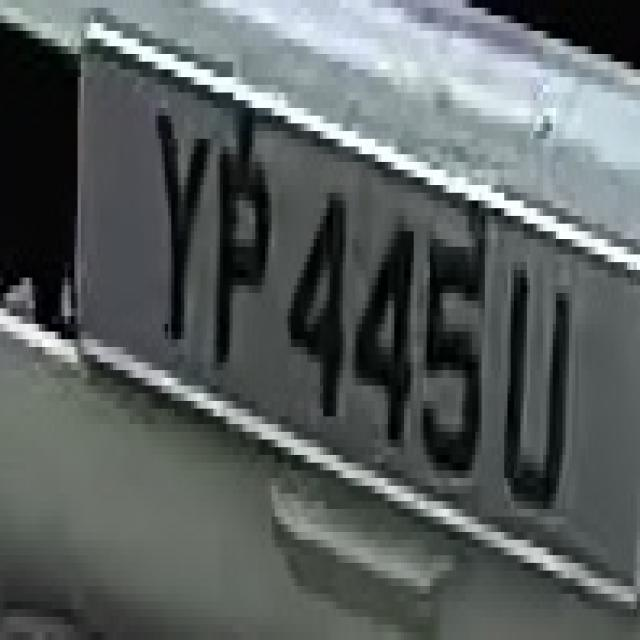4: (352, 170, 427, 462), (278, 154, 343, 409)
5: (420, 200, 485, 486)
P: (210, 116, 268, 362)
U: (498, 239, 569, 532)
Y: (149, 62, 207, 347)
